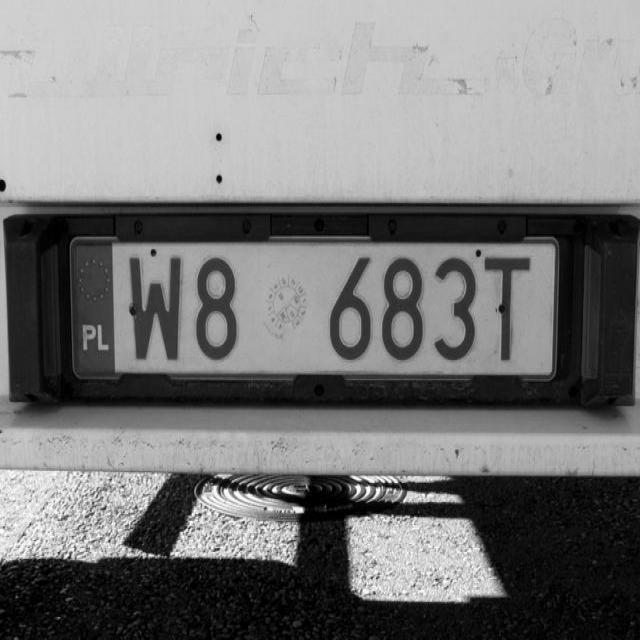License_Plate: (68, 233, 561, 379)
